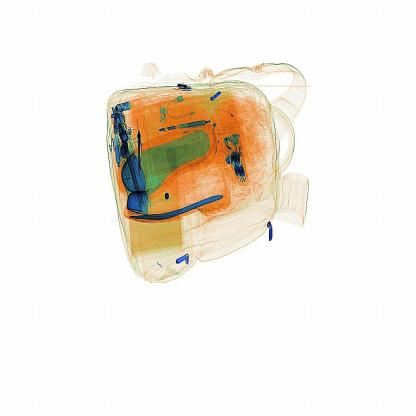knife: (133, 118, 153, 188)
